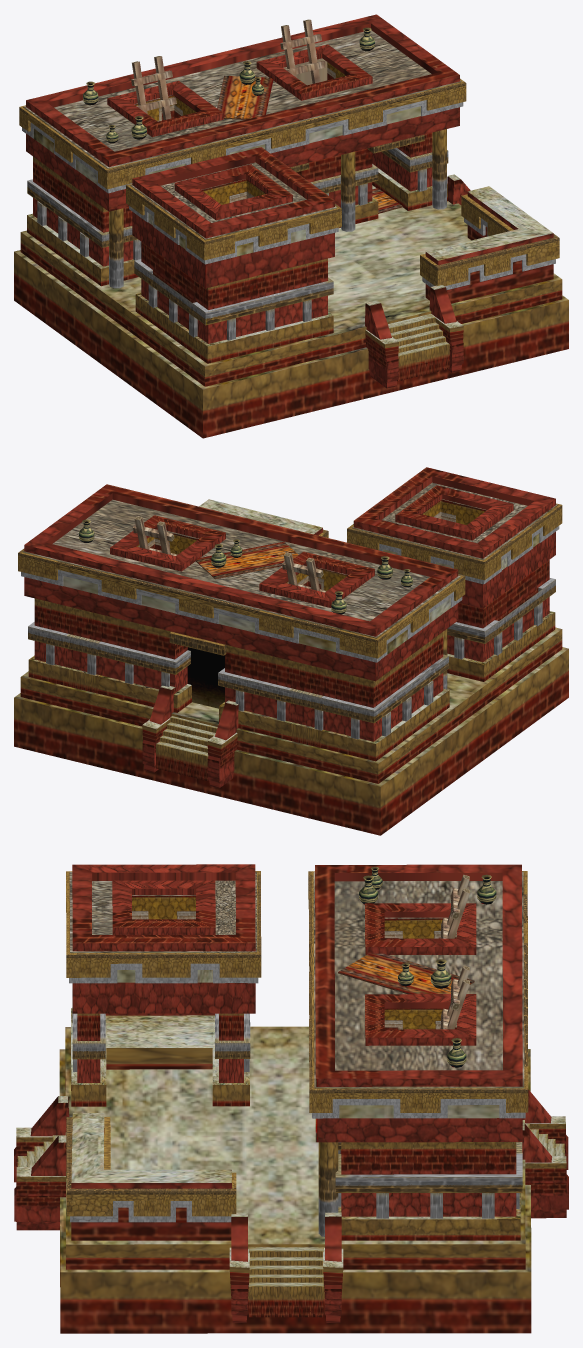
File: forge.dae
The picture shows the model from 3 angles, top to bottom: view 1: azimuth 30°, elevation 25°; view 2: azimuth 150°, elevation 25°; view 3: azimuth 270°, elevation 25°; orthographic projection. The views are drawn at different scales.
Parts seen in each view (by area): view 1: forge; view 2: forge; view 3: forge.
Part boxes in pixels (x1,y1,x2,y2): forge: (14, 14, 568, 438); forge: (14, 467, 568, 835); forge: (14, 864, 568, 1333).
Size of the model in its own units: 29.85 by 29.06 by 16.9.
